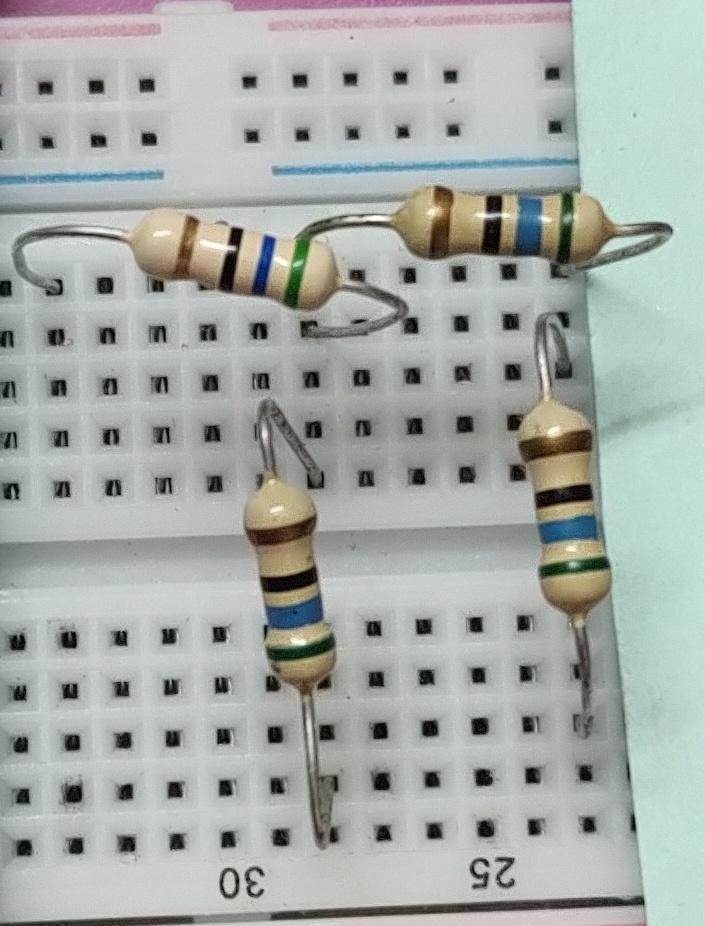resistor: (231, 467, 353, 701), (387, 165, 620, 279), (123, 203, 350, 310), (515, 383, 615, 620)
